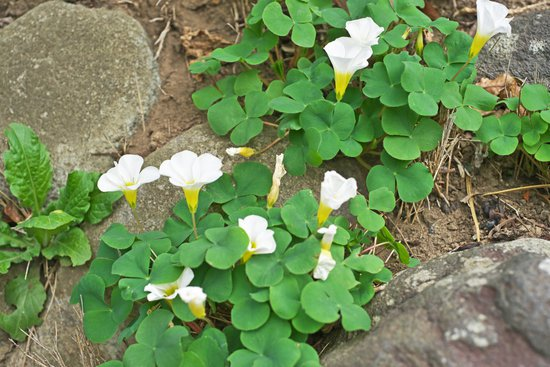oxalis: (82, 181, 386, 367), (209, 12, 550, 174)
